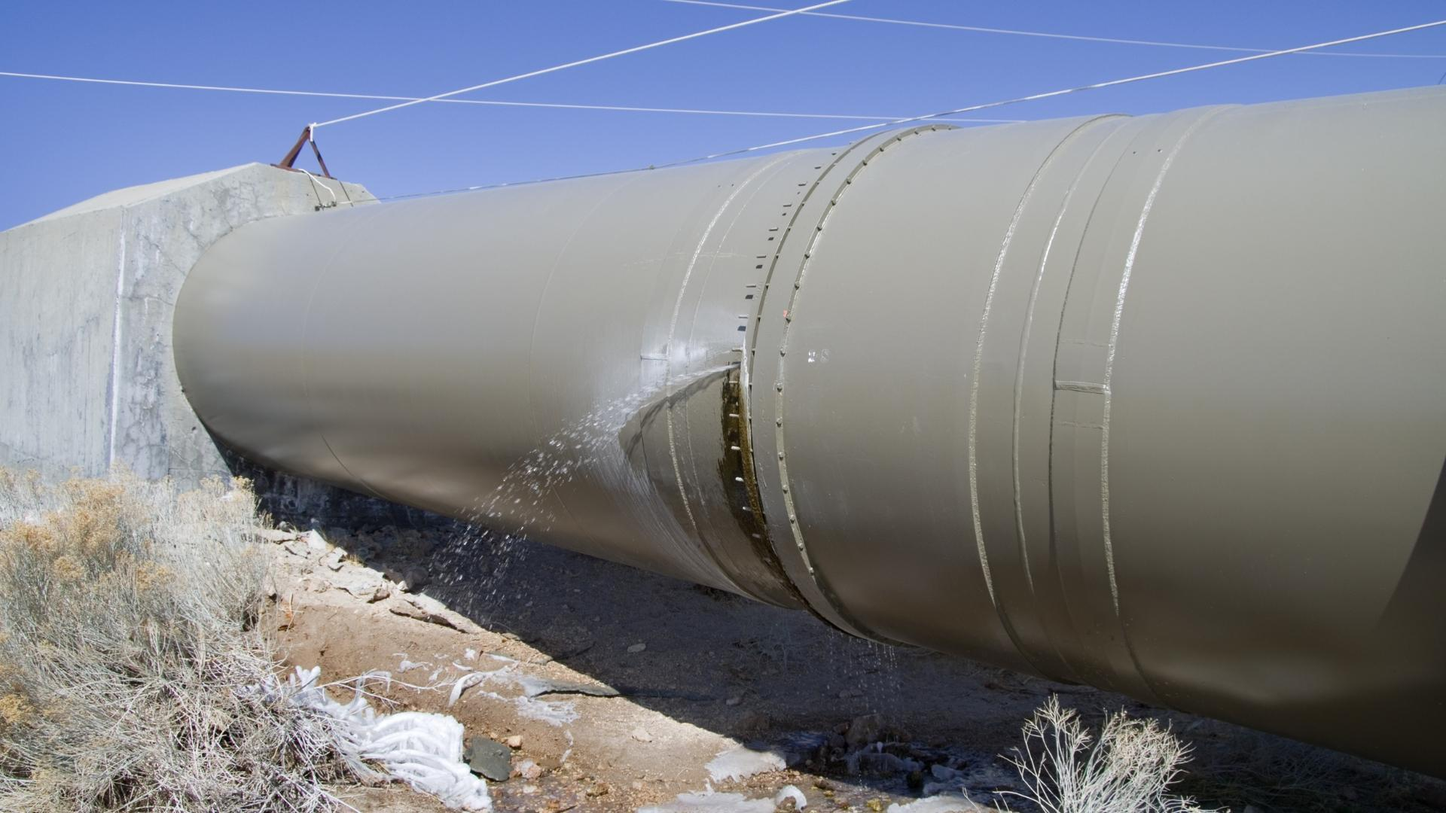pipe burst: (455, 350, 752, 580)
